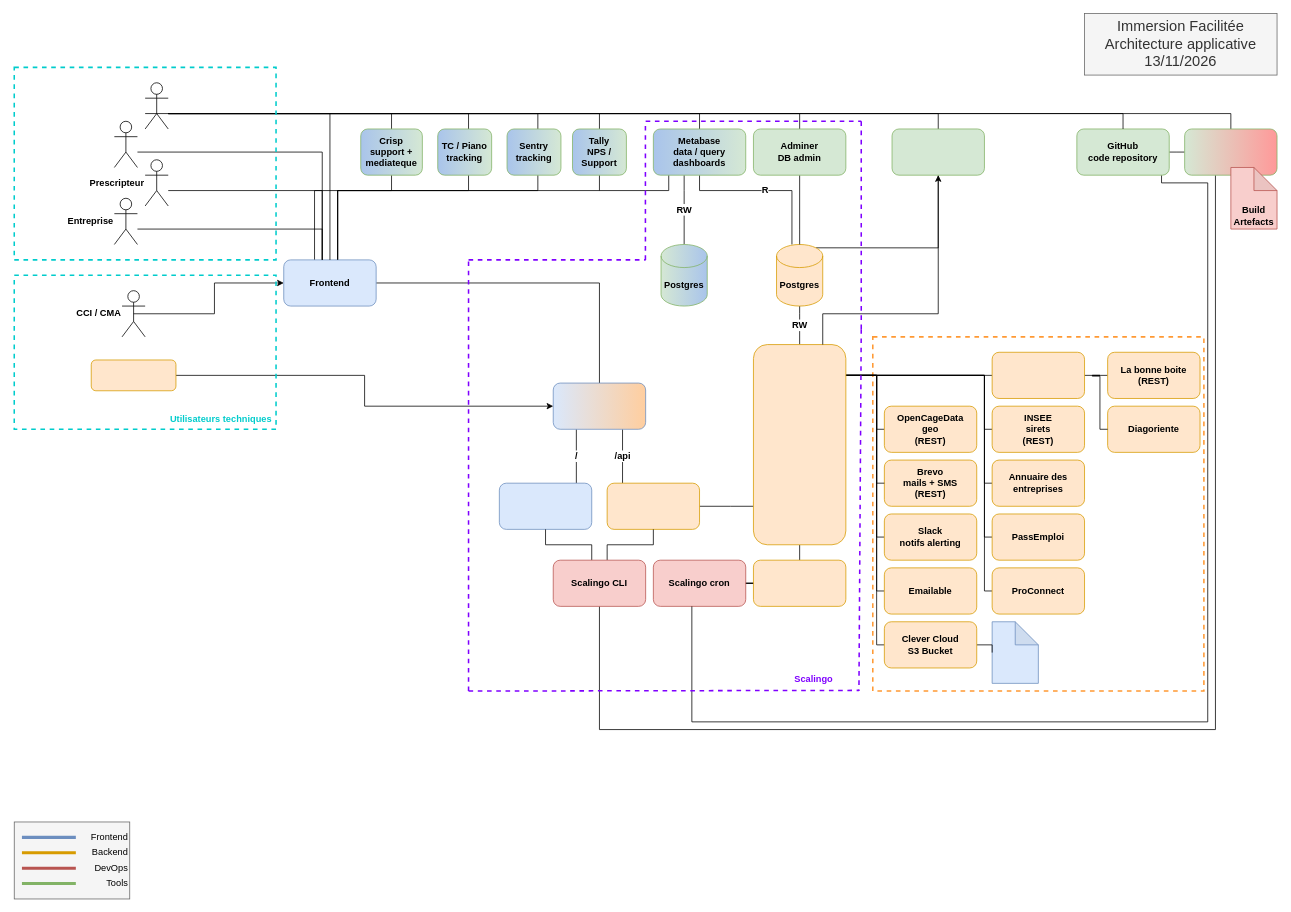
The diagram is 1291 pixels wide and 912 high, and some of its shapes have lost their labels. Here are the shapes that lost their labels. From the top down, the box of each, then its label:
(144, 82, 168, 129): Admin Immersion Facilitée
(114, 121, 137, 167): Bénéficiaire
(13, 66, 276, 260): Utilisateurs Immersion Facilitée
(891, 128, 984, 175): Datadog
(1184, 128, 1277, 175): GitHub Actions CICD
(90, 359, 176, 391): consommateurs API publique
(991, 352, 1085, 398): Pole Emploi dont PeConnect (REST)
(552, 382, 646, 429): Reverse proxy NGINX
(753, 344, 846, 545): Back Logic (TS)
(499, 482, 592, 529): Front Build Static (Vite)
(606, 482, 700, 529): API Webserver (Express)
(872, 336, 1204, 691): APIs Partenaires
(753, 559, 846, 606): Scripts (TS)
(991, 621, 1038, 683): Front Email assets
